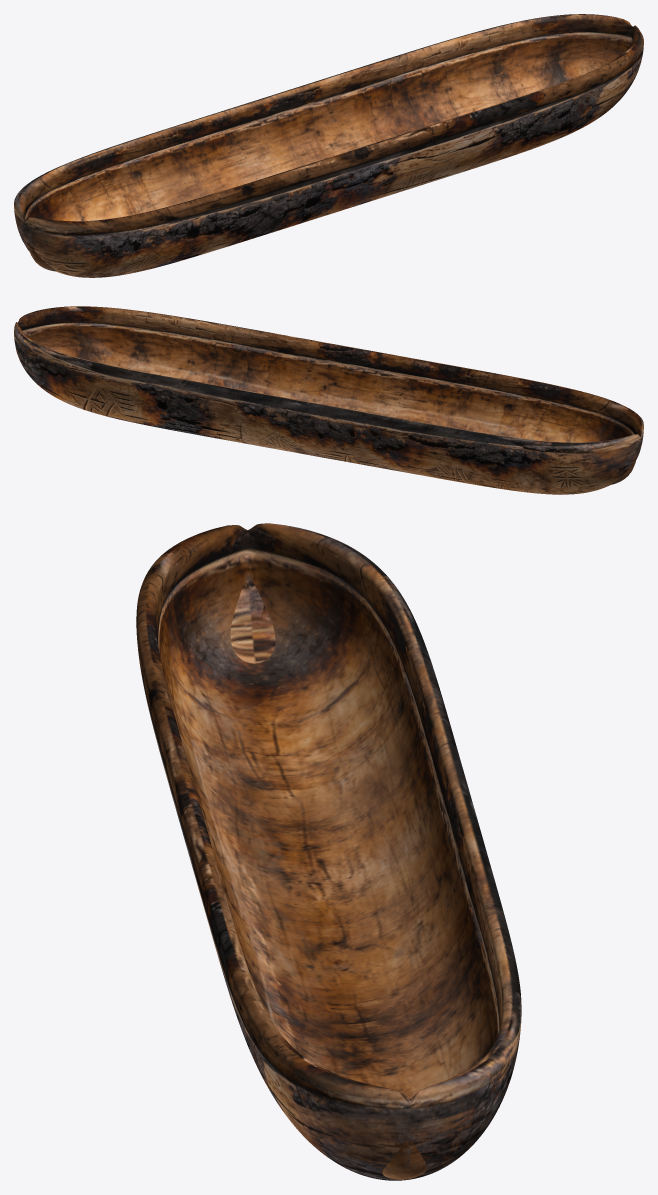
File: shipModelData-dugout.glb
3 renders of one model, top to bottom at view 1: azimuth 30°, elevation 25°; view 2: azimuth 150°, elevation 25°; view 3: azimuth 270°, elevation 25°, orthographic. The views are drawn at different scales.
Parts seen in each view (by area): view 1: Dugout canoe | level rounded gunwales; view 2: Dugout canoe | level rounded gunwales; view 3: Dugout canoe | level rounded gunwales.
Part boxes in pixels (x1,y1,x2,y2): Dugout canoe | level rounded gunwales: [14, 14, 643, 277]; Dugout canoe | level rounded gunwales: [14, 306, 643, 494]; Dugout canoe | level rounded gunwales: [136, 523, 521, 1180].
Bounding box in the file's own units: 6.75 × 0.8464 × 1.93.
Materials: 1 (1 with a texture image).
